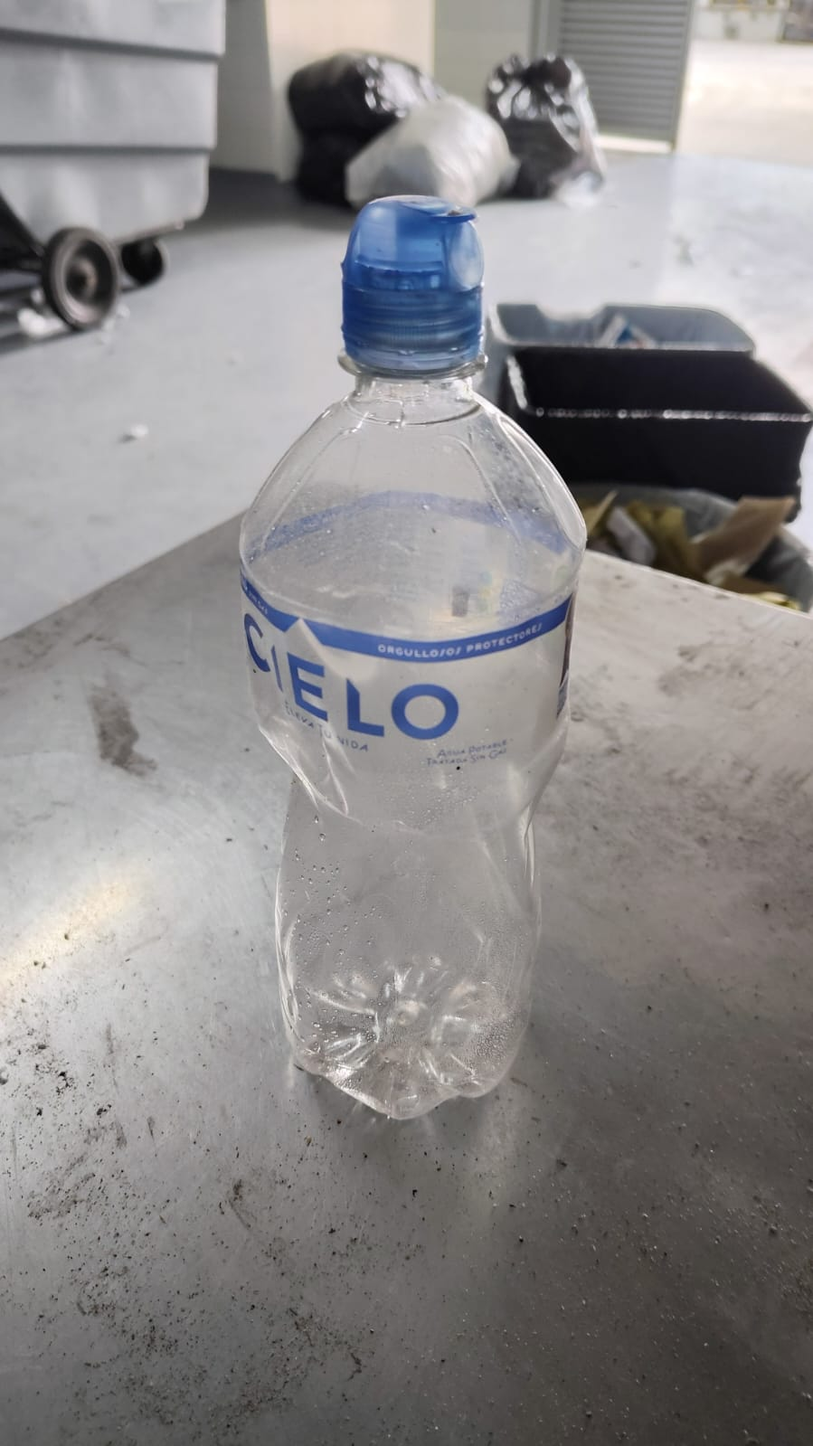Plastico: (240, 192, 585, 1123)
